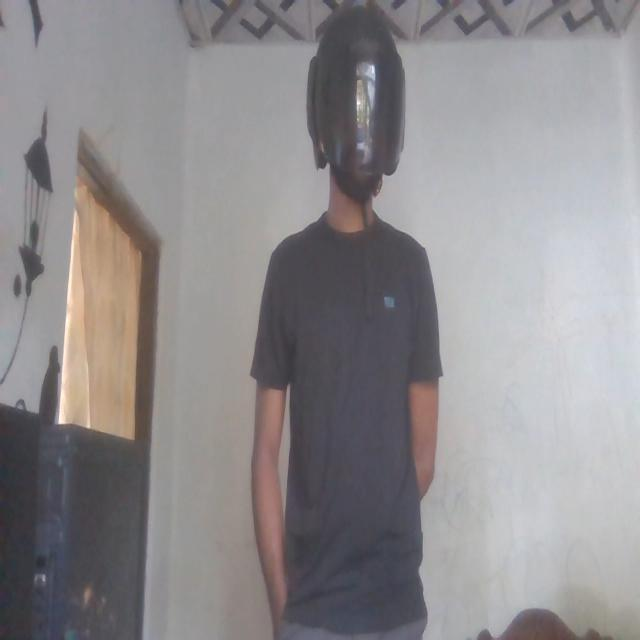Helmet_Wearer: (306, 0, 408, 215)
Person: (252, 0, 448, 640)
